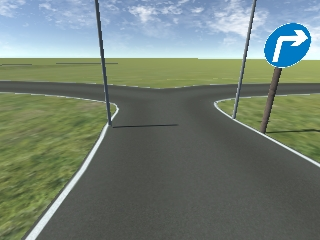right: (262, 24, 312, 68)
